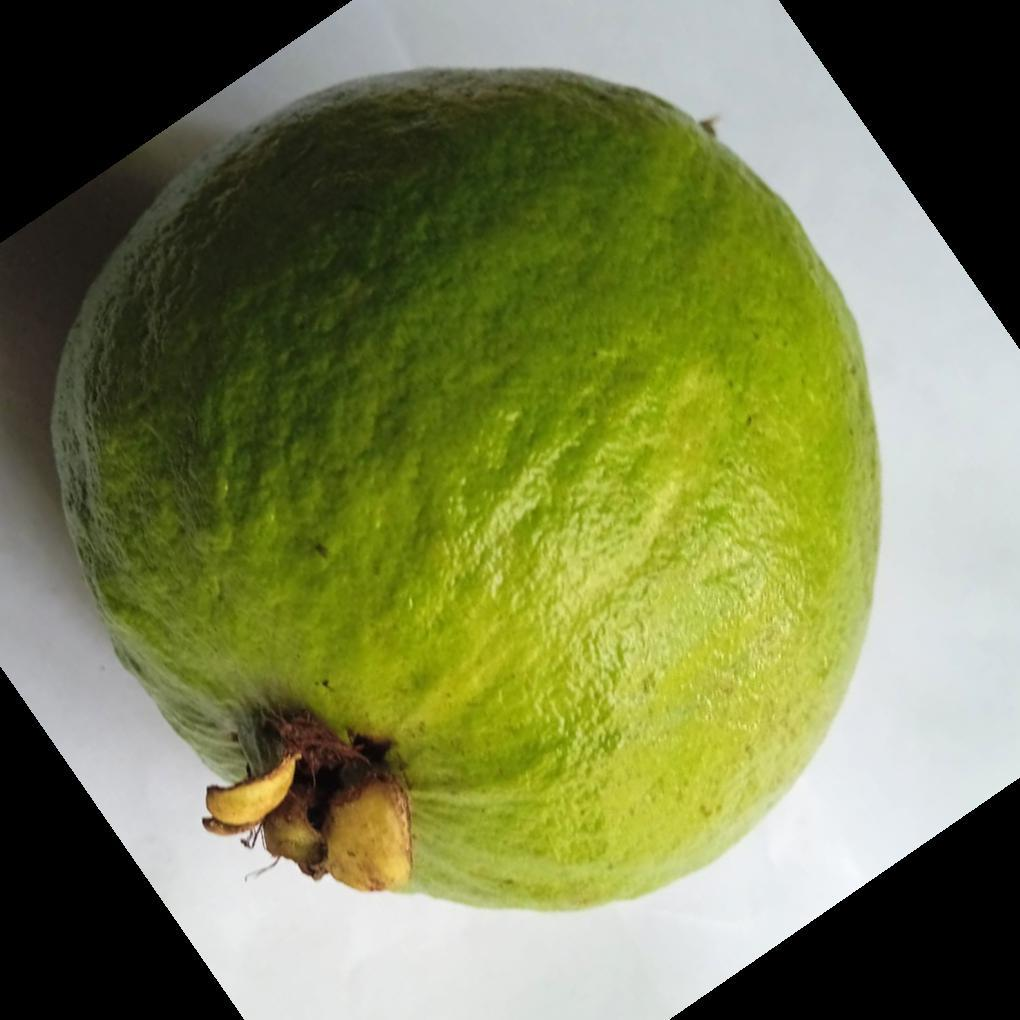FreshGuava: (48, 69, 883, 917)
